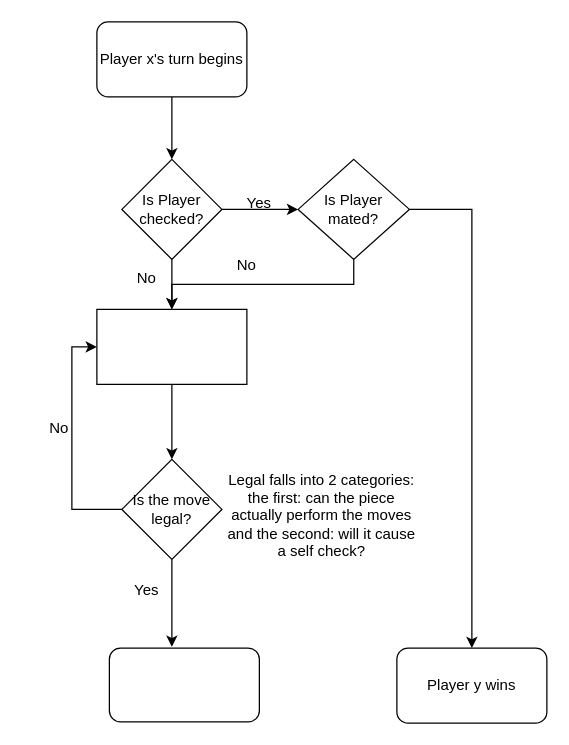
Image size: 569x745. Some labels were removed from this diagram. The shapes that lost their labels are listed below. From the top down, each one's centre as x and y in pixels, then its label:
At pixel 171 346: "Player makes move".
At pixel 183 684: "Player x's turn ends".
